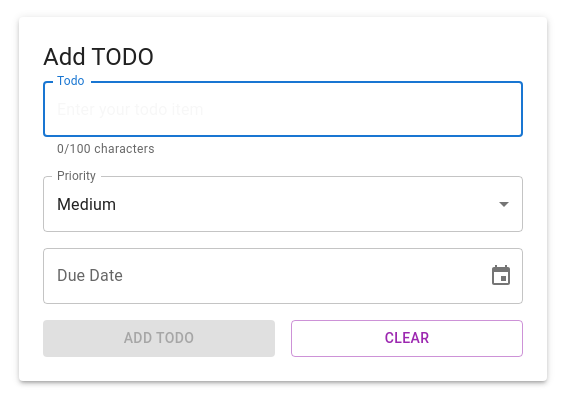
Scenario: AddTodo Component › clears all fields on Clear button
The image size is (567, 403).
Type "Some task" into the field labelled "Todo". click: (283, 109)
box: [43, 81, 523, 137]
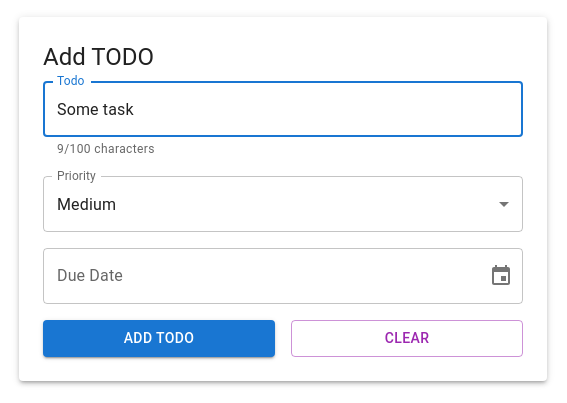
Click the button "Clear". click: (407, 339)
box: [291, 320, 523, 357]
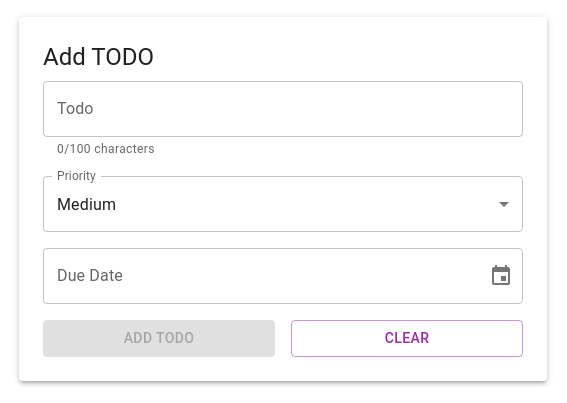
Check: the field labelled "Todo" is empty, box [43, 81, 523, 137]
